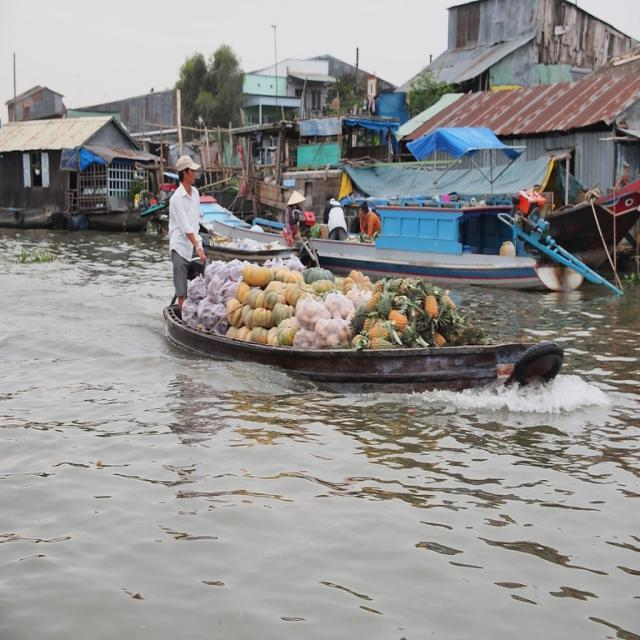boat: (150, 268, 568, 383)
